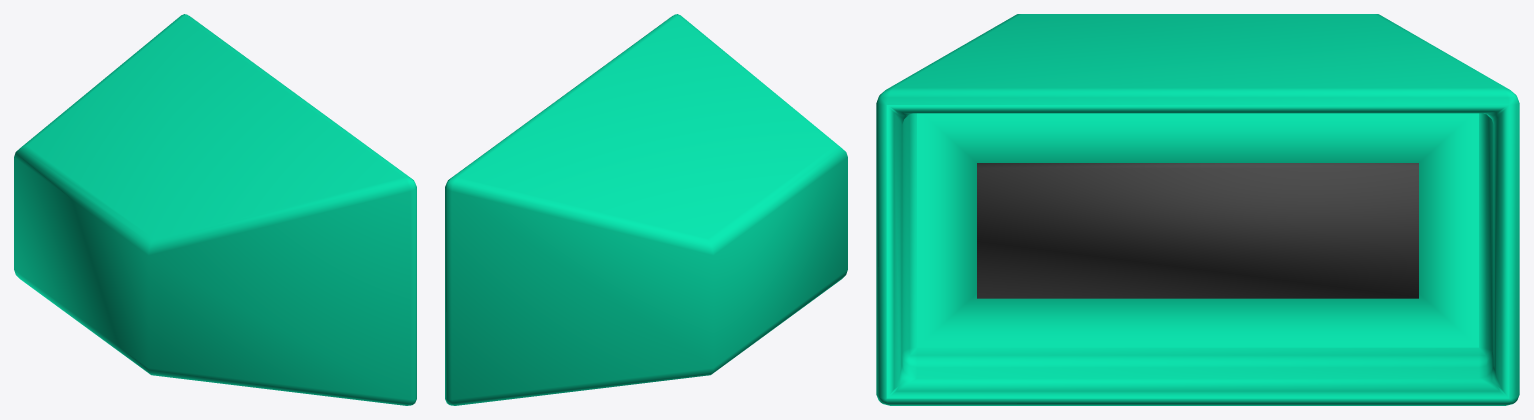
Rendered from speakerV2.fbx.
3 views of the same model, side by side, from view 1: azimuth 30°, elevation 25°; view 2: azimuth 150°, elevation 25°; view 3: azimuth 270°, elevation 25° (orthographic). The views are drawn at different scales.
Visible parts, largest first — view 1: speaker1; view 2: speaker1; view 3: speaker1, speaker2.
Part boxes in pixels (x1,y1,x2,y2): speaker1: [14, 14, 416, 405]; speaker1: [445, 14, 847, 405]; speaker1: [876, 14, 1519, 405]; speaker2: [977, 163, 1418, 298].
Bounding box in the file's own units: 200 × 196 × 363.
